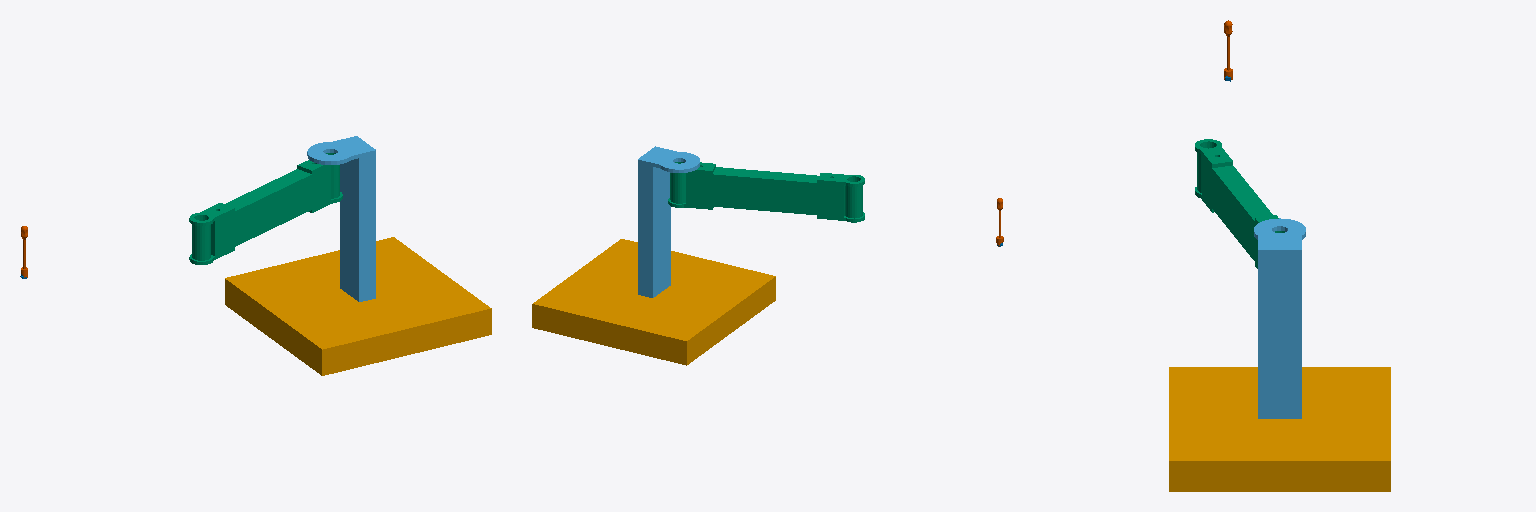
URDF robot description (final3):
<?xml version="1.0" encoding="utf-8"?>
<robot name="final3">

  <gazebo>
    <physics type="ode">
      <max_step_size>0.001</max_step_size>
      <real_time_update_rate>1000</real_time_update_rate>
      <ode>
        <solver>
          <iters>100</iters>
          <sor>1.3</sor>
        </solver>
        <constraints>
          <erp>0.2</erp>
          <cfm>0.0</cfm>
          <contact_surface_layer>0.0005</contact_surface_layer>
          <contact_max_correcting_vel>100</contact_max_correcting_vel>
        </constraints>
      </ode>
    </physics>
    <plugin name="gazebo_ros_control" filename="libgazebo_ros_control.so">
      <robotNamespace>/</robotNamespace>
      <controlPeriod>0.001</controlPeriod>
    </plugin>
  </gazebo>

  <!-- Base stand friction/damping -->
  <gazebo reference="base_stand">
    <mu1>3.0</mu1><mu2>3.0</mu2>
    <slip1>0.0</slip1><slip2>0.0</slip2>
    <kp>2000000</kp><kd>5.0</kd>
    <linearDamping>0.3</linearDamping>
    <angularDamping>0.3</angularDamping>
  </gazebo>

  <!-- ===== Links / Joints ===== -->

  <link name="base_stand">
    <inertial>
      <origin xyz="0 0 0" rpy="0 0 0"/>
      <mass value="15.0"/>
      <inertia ixx="0.2045" iyy="0.2045" izz="0.4000" ixy="0" ixz="0" iyz="0"/>
    </inertial>
    <visual><origin xyz="0 0 -0.03" rpy="0 0 0"/><geometry><box size="0.40 0.40 0.06"/></geometry></visual>
    <collision><origin xyz="0 0 -0.03" rpy="0 0 0"/><geometry><box size="0.40 0.40 0.06"/></geometry></collision>
  </link>

  <joint name="base_stand_fix" type="fixed">
    <origin xyz="0 0 0" rpy="0 0 0"/>
    <parent link="base_stand"/>
    <child link="base_link"/>
  </joint>

  <link name="base_link">
    <inertial>
      <origin xyz="-0.00336427008800971 0 0.176177481833415" rpy="0 0 0"/>
      <mass value="1.13227805038393"/>
      <inertia ixx="0.0121531021222289" ixy="-3.59019259225343E-19" ixz="0.000587859098098468"
               iyy="0.0119525756112575" iyz="-2.78003552835926E-18" izz="0.00102146038185239"/>
    </inertial>
    <visual><origin xyz="0 0 0" rpy="0 0 0"/><geometry><mesh filename="package://final3/meshes/base_link.STL"/></geometry></visual>
    <collision><origin xyz="0 0 0" rpy="0 0 0"/><geometry><mesh filename="package://final3/meshes/base_link.STL"/></geometry></collision>
  </link>

  <link name="l1">
    <inertial>
      <origin xyz="-0.189428590016577 -0.064162366573651 5.55111512312578E-17" rpy="0 0 0"/>
      <mass value="1.3016523193261"/>
      <inertia ixx="0.00219848452395246" ixy="-0.00342968551632687" ixz="0"
               iyy="0.011162366813926" iyz="0" izz="0.0116571619649917"/>
    </inertial>
    <visual><origin xyz="0 0 0" rpy="0 0 0"/><geometry><mesh filename="package://final3/meshes/l1.STL"/></geometry></visual>
    <collision><origin xyz="0 0 0" rpy="0 0 0"/><geometry><mesh filename="package://final3/meshes/l1.STL"/></geometry></collision>
  </link>

  <joint name="j1" type="revolute">
    <origin xyz="-0.065 0 0.278" rpy="0 0 0"/>
    <parent link="base_link"/><child link="l1"/>
    <axis xyz="0 0 1"/>
    <limit lower="-1.57" upper="1.57" effort="40" velocity="0.5"/>
    <dynamics damping="0.02" friction="0.0"/>
  </joint>

  <link name="l2">
    <inertial>
      <origin xyz="-0.323439138443078 0.0292504033924335 0.0100322732874896" rpy="0 0 0"/>
      <mass value="3.6875217386648"/>
      <inertia ixx="0.0014809901425467" ixy="0.00089641488545978" ixz="-1.00733265699137E-07"
               iyy="0.0114085095981645" iyz="5.98503904057003E-07" izz="0.0120439794121417"/>
    </inertial>
    <visual><origin xyz="0 0 0" rpy="0 0 0"/><geometry><mesh filename="package://final3/meshes/l2.STL"/></geometry></visual>
    <collision><origin xyz="0 0 0" rpy="0 0 0"/><geometry><mesh filename="package://final3/meshes/l2.STL"/></geometry></collision>
  </link>

  <joint name="j2" type="revolute">
    <origin xyz="-0.37876 -0.12724 -0.0935" rpy="0 0 0"/>
    <parent link="l1"/><child link="l2"/>
    <axis xyz="0 0 1"/>
    <limit lower="-3.14" upper="3.14" effort="30" velocity="0.5"/>
    <dynamics damping="0.02" friction="0.0"/>
  </joint>

  <!-- ===== Gimbal: PITCH ===== -->
  <link name="pitch">
    <inertial>
      <!-- Inertial origin aligned with link frame (joint pivot is defined by joint origin below) -->
      <origin xyz="0 0 0" rpy="0 0 0"/>
      <mass value="0.02"/>
      <inertia
        ixx="3.2092E-08"
        ixy="7.6869E-14"
        ixz="4.9764E-15"
        iyy="3.2093E-08"
        iyz="4.1593E-15"
        izz="4.6816E-08" />
    </inertial>
    <visual><origin xyz="0 0 0" rpy="0 0 0"/><geometry><mesh filename="package://final3/meshes/pitch.STL"/></geometry></visual>
    <collision><origin xyz="0 0 0" rpy="0 0 0"/><geometry><mesh filename="package://final3/meshes/pitch.STL"/></geometry></collision>
  </link>

  <joint name="pitch_j" type="revolute">
    <!-- Keep your real mounting pose -->
    <origin xyz="-0.39841 0.035635 0.0875" rpy="0 0 0"/>
    <parent link="l2"/><child link="pitch"/>
   <axis xyz="-0.99602 0.089087 0"/>
    <limit lower="-0.6" upper="0.6" effort="20" velocity="0.5"/>
    <dynamics damping="0.05" friction="0.0"/>
  </joint>

  <!-- ===== Gimbal: ROLL ===== -->
  <link name="roll">
    <inertial>
      <origin
        xyz="-2.3765E-09 -3.7085E-08 0.049659"
        rpy="0 0 0" />
      <mass
        value="0.014628" />
      <inertia
        ixx="4.8925E-06"
        ixy="-2.8915E-09"
        ixz="-1.7932E-13"
        iyy="4.8604E-06"
        iyz="-2.5938E-12"
        izz="3.3066E-07" />
    </inertial>
    <visual><origin xyz="0 0 0" rpy="0 0 0"/><geometry><mesh filename="package://final3/meshes/roll.STL"/></geometry></visual>
    <collision><origin xyz="0 0 0" rpy="0 0 0"/><geometry><mesh filename="package://final3/meshes/roll.STL"/></geometry></collision>
  </link>

  <joint name="roll_j" type="revolute">
    <!-- Keep your real mounting pose -->
    <origin xyz="-9.658E-05 -0.0010798 0" rpy="0 0 0"/>
    <parent link="pitch"/><child link="roll"/>
     <axis xyz="-0.089087 -0.99602 0"/>
    <limit lower="-0.6" upper="0.6" effort="25" velocity="0.5"/>
    <dynamics damping="0.05" friction="0.0"/>
  </joint>

  <!-- ===== Transmissions ===== -->
  <transmission name="pitch_tr">
    <type>transmission_interface/SimpleTransmission</type>
    <joint name="pitch_j">
      <hardwareInterface>hardware_interface/EffortJointInterface</hardwareInterface>
    </joint>
    <actuator name="pitch_motor">
      <hardwareInterface>hardware_interface/EffortJointInterface</hardwareInterface>
      <mechanicalReduction>1</mechanicalReduction>
    </actuator>
  </transmission>

  <transmission name="roll_tr">
    <type>transmission_interface/SimpleTransmission</type>
    <joint name="roll_j">
      <hardwareInterface>hardware_interface/EffortJointInterface</hardwareInterface>
    </joint>
    <actuator name="roll_motor">
      <hardwareInterface>hardware_interface/EffortJointInterface</hardwareInterface>
      <mechanicalReduction>1</mechanicalReduction>
    </actuator>
  </transmission>

  <transmission name="j1_trans">
    <type>transmission_interface/SimpleTransmission</type>
    <actuator name="j1_motor">
      <hardwareInterface>hardware_interface/VelocityJointInterface</hardwareInterface>
      <mechanicalReduction>1</mechanicalReduction>
    </actuator>
    <joint name="j1">
      <hardwareInterface>hardware_interface/VelocityJointInterface</hardwareInterface>
    </joint>
  </transmission>

  <transmission name="j2_trans">
    <type>transmission_interface/SimpleTransmission</type>
    <actuator name="j2_motor">
      <hardwareInterface>hardware_interface/VelocityJointInterface</hardwareInterface>
      <mechanicalReduction>1</mechanicalReduction>
    </actuator>
    <joint name="j2">
      <hardwareInterface>hardware_interface/VelocityJointInterface</hardwareInterface>
    </joint>
  </transmission>

</robot>

--- Facts derived from the render (not from the file) ---
Views: 3 orthographic renders of the robot side by side, from view 1: azimuth 30°, elevation 25°; view 2: azimuth 150°, elevation 25°; view 3: azimuth 270°, elevation 25°.
Model final3 with 6 links and 5 joints (4 revolute, 1 fixed), rooted at base_stand, posed every joint at zero.
Visible links, largest first — view 1: base_stand, l1, base_link; view 2: base_stand, l1, base_link; view 3: base_stand, base_link, l1.
Boxes of the visible links, x1,y1,x2,y2 form: base_stand: (225, 237, 491, 375); l1: (189, 153, 342, 264); base_link: (307, 136, 375, 301); base_stand: (532, 239, 775, 365); l1: (668, 162, 864, 222); base_link: (638, 146, 699, 297); base_stand: (1169, 367, 1390, 491); base_link: (1254, 218, 1305, 418); l1: (1195, 139, 1284, 268).
Bounding box of the posed robot: 1.05 × 0.4 × 0.446 m (x, y, z).
Meshes: 5 distinct files referenced, 4 mesh visuals loaded (4 binary STL); not drawn: 1 (reference not matched to a file when rendering).